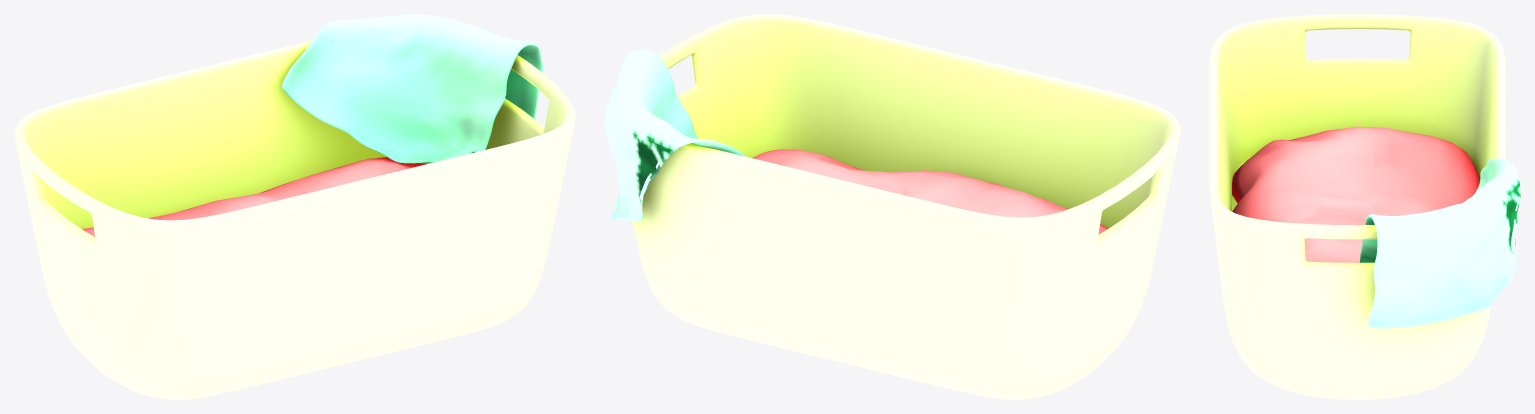
Rendered from Laundry_basket.fbx.
3 views of the same model, side by side, from view 1: azimuth 30°, elevation 25°; view 2: azimuth 150°, elevation 25°; view 3: azimuth 270°, elevation 25° (orthographic). The views are drawn at different scales.
Visible parts, largest first — view 1: laundry_basket; view 2: laundry_basket; view 3: laundry_basket.
Boxes of the visible parts, x1,y1,x2,y2 form: laundry_basket: (14, 14, 575, 399); laundry_basket: (604, 14, 1180, 399); laundry_basket: (1209, 14, 1520, 399).
Size of the model in its own units: 184 by 83.84 by 108.
